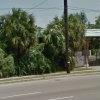Tree: (8, 5, 100, 68)
